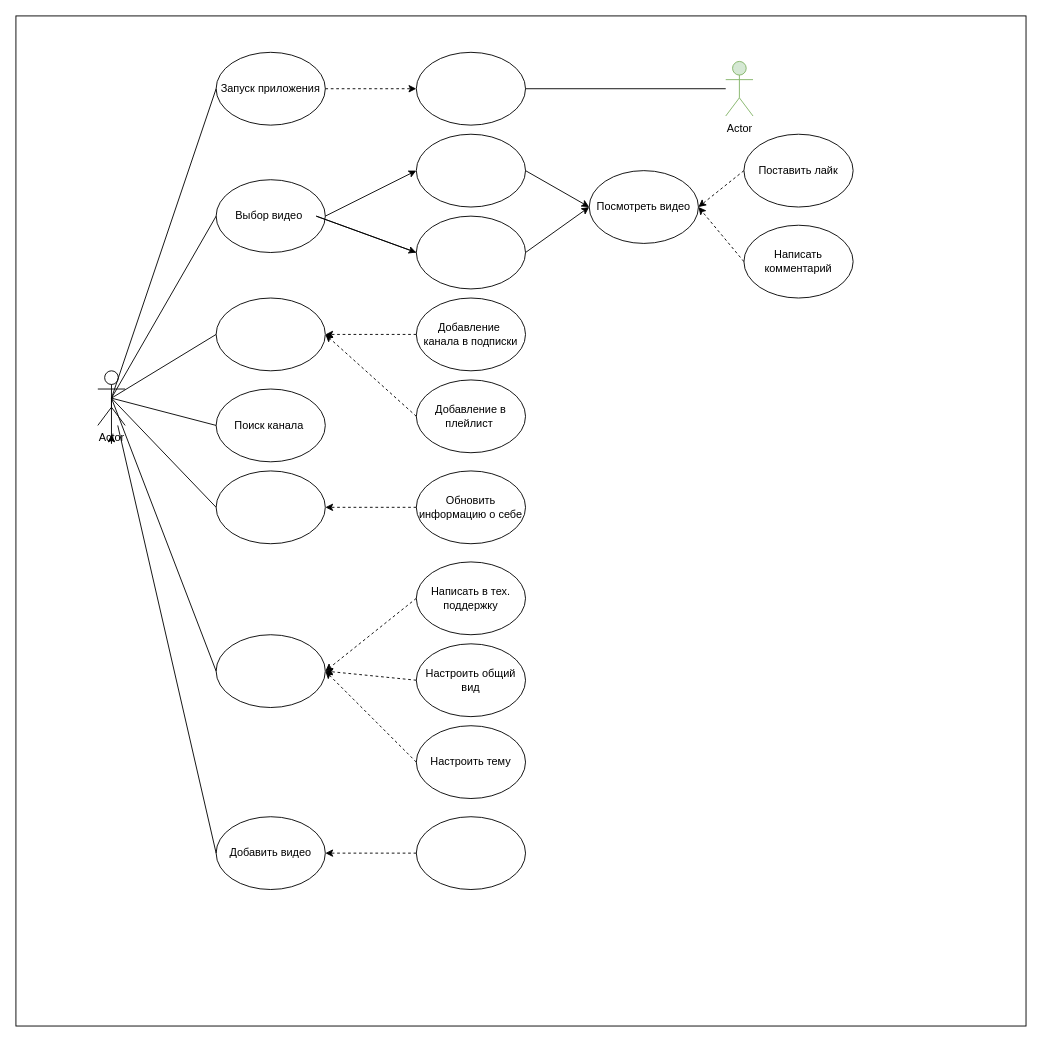
Some shapes in this 1042 by 1042 pixel diagram are drawn without their labels. Here are the shapes that lost their labels. From the top down, the centre of each, then its label:
At point 470,88: "Связь с сервером".
At point 470,170: "Выбор видео с каналов на которые подписан".
At point 470,252: "Выбор из предложенного".
At point 270,334: "Добавление видео в избранное".
At point 270,507: "Личный кабинет".
At point 270,671: "Настройки".
At point 470,853: "Открыть общий доступ".
